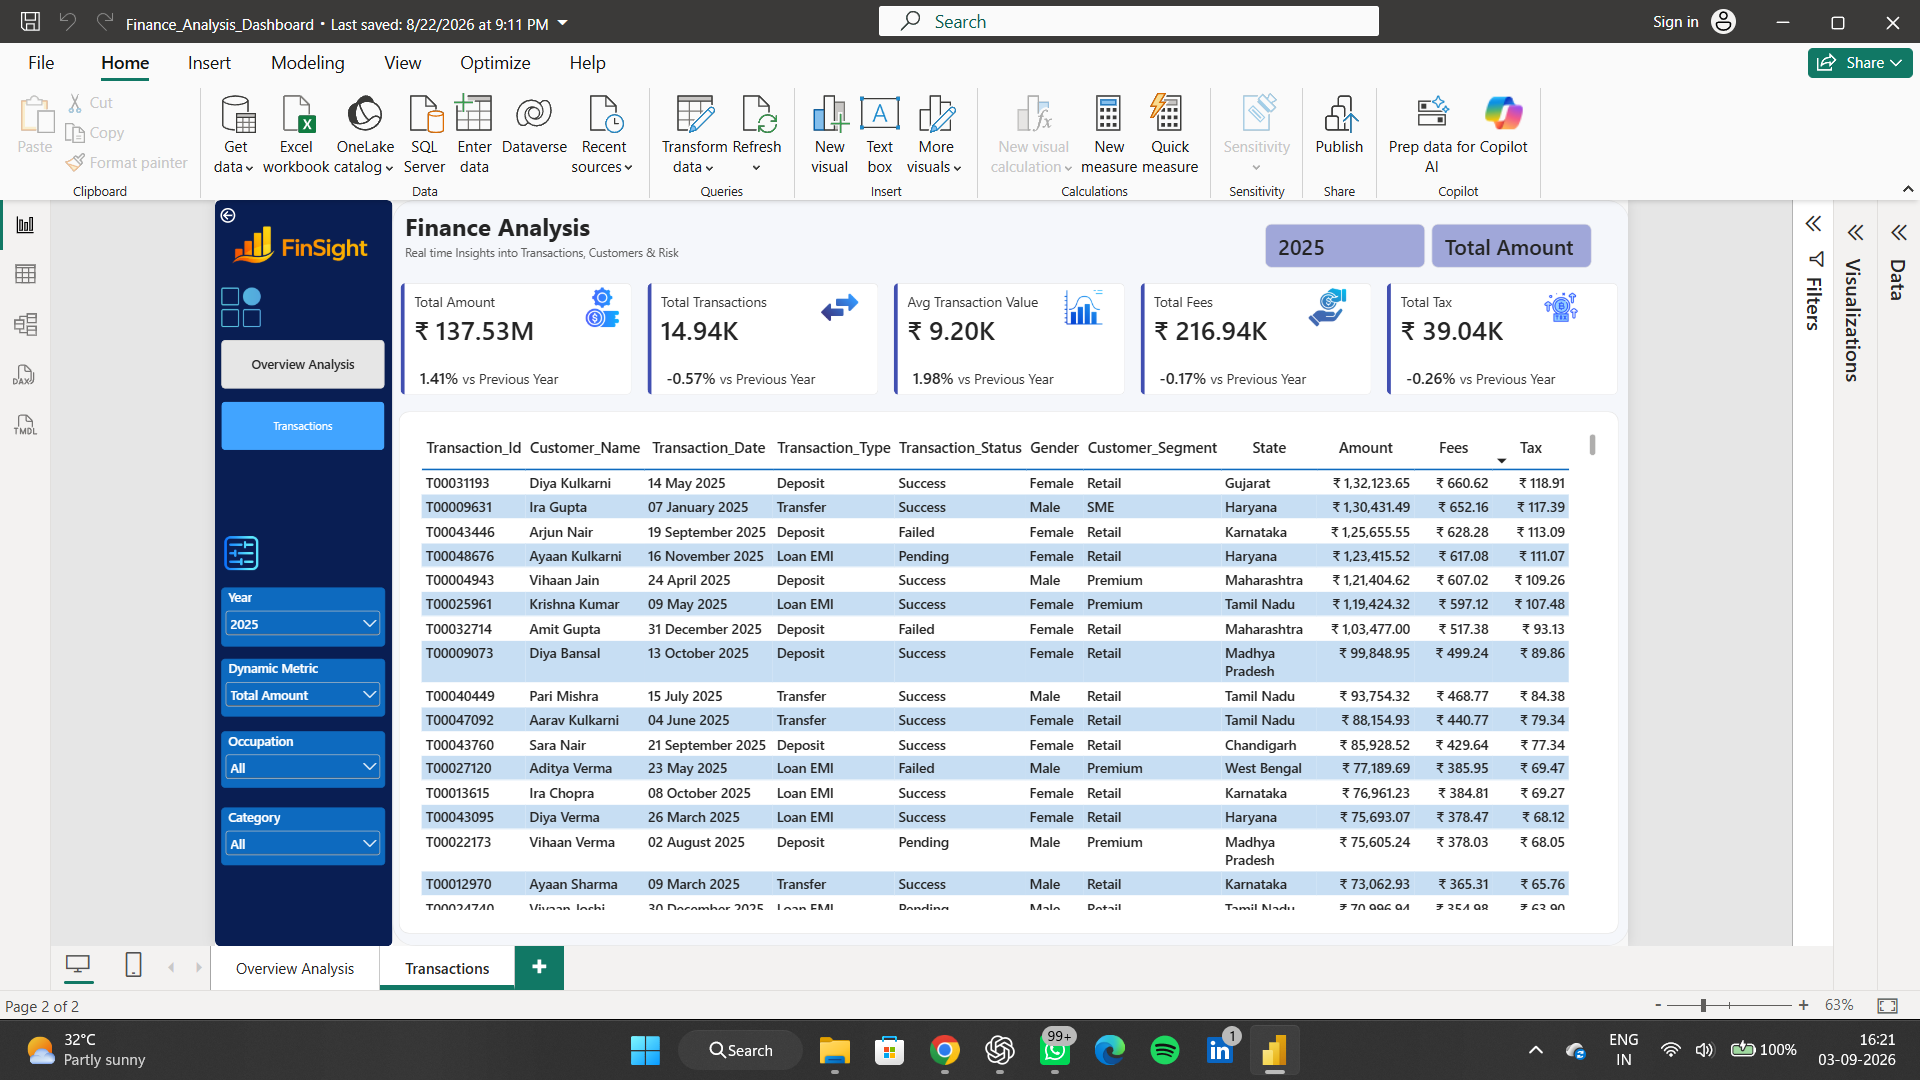

Layout of this report page (visuals, bound fields, positions):
{"tool":"powerbi","page":{"name":"Transactions","canvas":[1800,950],"ordinal":1},"visuals":[{"type":"shape","box":[0,0,226,950.3],"z":0},{"type":"shape","box":[226,0,1575,950],"z":1000},{"type":"image","box":[11.4,22.9,197.9,70.3],"z":2000},{"type":"cardVisual","fields":{"Data":["Measure.Dashboard Title"]},"box":[226,4.8,390,81.7],"z":3000},{"type":"cardVisual","fields":{"Data":["Measure.Total Amount","Measure.Total Transactions","Measure.Avg Transaction Value","Measure.Total Fee","Measure.Total Tax"]},"box":[235.6,105.1,1552,144.9],"z":4000},{"type":"image","box":[467.2,112.1,50,50],"z":5000},{"type":"image","box":[770.7,112.1,50,50],"z":6000},{"type":"image","box":[1081,112.1,50,50],"z":7000},{"type":"image","box":[1391.4,112.1,50,50],"z":8000},{"type":"image","box":[1689.7,112.1,50,50],"z":9000},{"type":"shape","box":[234,269,1553.6,665.4],"z":10000},{"type":"cardVisual","fields":{"Data":["Measure.Selected Year","Measure.Selected Dynamic Matric"]},"box":[1337.5,30.4,417.2,56.2],"z":11000},{"type":"tableEx","fields":{"Values":["finance_transactions.transaction_id","customers.customer_name","finance_transactions.transaction_date","finance_transactions.transaction_type","finance_transactions.transaction_status","customers.gender","customers.customer_segment","customers.state","Measure.Total Amount","Measure.Total Fees","Measure.Total Tax"]},"box":[246.7,283.3,1528.2,636.7],"z":12000},{"type":"actionButton","box":[0,0,32.7,39.2],"z":13000},{"type":"slicer","fields":{"Values":["Calendar Table.Year"]},"box":[8,493.5,208.5,74.8],"z":14000},{"type":"slicer","fields":{"Values":["Dynamic Metric.Dynamic Metric"]},"box":[8,584.2,208.5,73.2],"z":15000},{"type":"slicer","fields":{"Values":["customers.occupation"]},"box":[8,676.5,208.5,71.6],"z":16000},{"type":"slicer","fields":{"Values":["finance_transactions.merchant_category"]},"box":[8,773.6,208.5,73.2],"z":17000},{"type":"pageNavigator","box":[8,178.3,208.5,141.7],"z":18000},{"type":"image","box":[8,111.4,50.7,50.7],"z":19000},{"type":"image","box":[8,425,50.9,49.3],"z":20000}]}

Visuals, with their boxes on the page's 1800x950 design canvas (x1, y1, x2, y2). These are canvas units, not pixel positions in the 1920x1080 screenshot, which may show the page scaled, cropped or inside an application window:
shape: region(0, 0, 226, 950)
shape: region(226, 0, 1801, 950)
image: region(11, 23, 209, 93)
cardVisual - Measure.Dashboard Title: region(226, 5, 616, 86)
cardVisual - Measure.Total Amount x Measure.Total Transactions: region(236, 105, 1788, 250)
image: region(467, 112, 517, 162)
image: region(771, 112, 821, 162)
image: region(1081, 112, 1131, 162)
image: region(1391, 112, 1441, 162)
image: region(1690, 112, 1740, 162)
shape: region(234, 269, 1788, 934)
cardVisual - Measure.Selected Year x Measure.Selected Dynamic Matric: region(1338, 30, 1755, 87)
tableEx - finance_transactions.transaction_id x customers.customer_name: region(247, 283, 1775, 920)
actionButton: region(0, 0, 33, 39)
slicer - Calendar Table.Year: region(8, 494, 216, 568)
slicer - Dynamic Metric.Dynamic Metric: region(8, 584, 216, 657)
slicer - customers.occupation: region(8, 676, 216, 748)
slicer - finance_transactions.merchant_category: region(8, 774, 216, 847)
pageNavigator: region(8, 178, 216, 320)
image: region(8, 111, 59, 162)
image: region(8, 425, 59, 474)
